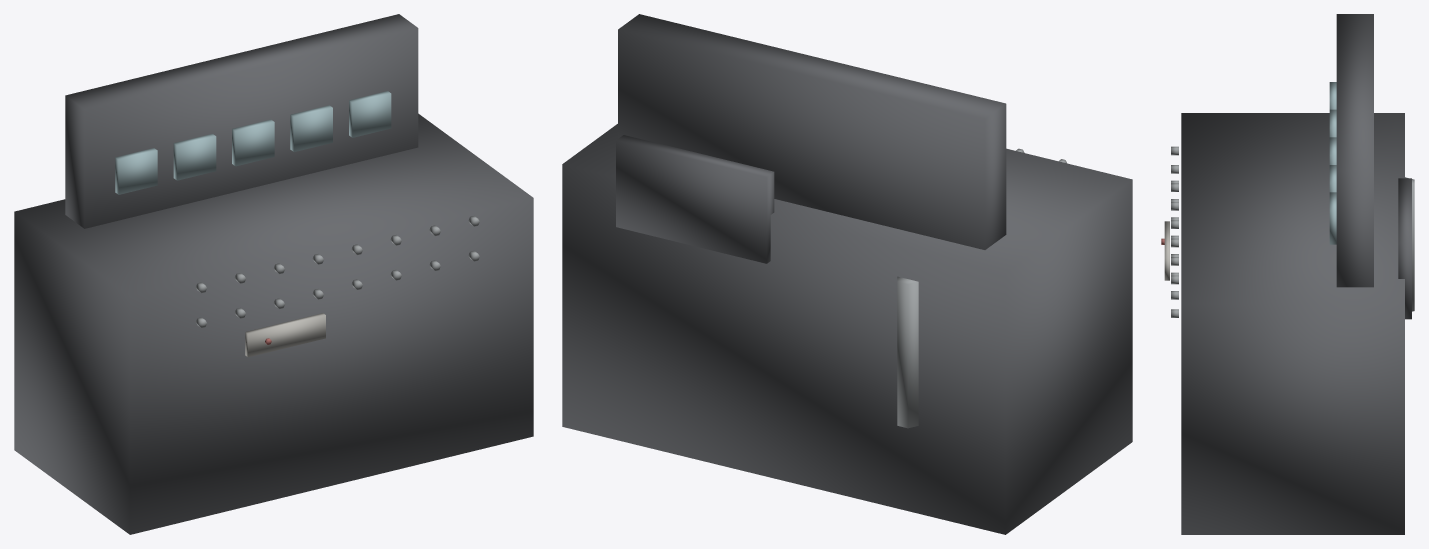
File: pa_rack__service.glb
3 views of the same model, side by side, from view 1: azimuth 30°, elevation 25°; view 2: azimuth 150°, elevation 25°; view 3: azimuth 270°, elevation 25° (orthographic). The views are drawn at different scales.
Visible parts, largest first — view 1: world; view 2: world; view 3: world.
Part boxes in pixels (bbox=[...]): world: bbox=[14, 14, 533, 534]; world: bbox=[562, 14, 1132, 534]; world: bbox=[1161, 14, 1414, 534].
Size of the model in its own units: 1.45 by 1.23 by 0.8138.
